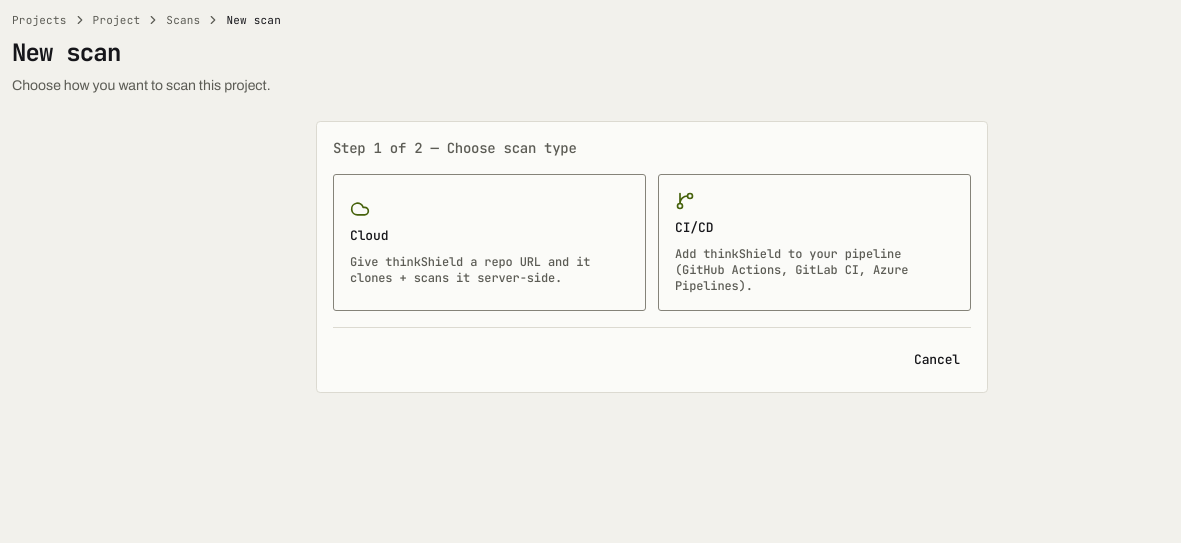
Test: New scan: CI/CD setup › a project that already has a token says so and offers to manage tokens instead
This screenshot has width=1181, height=543.
Click the button "CI/CD". click: (694, 228)
box: [658,174,971,311]
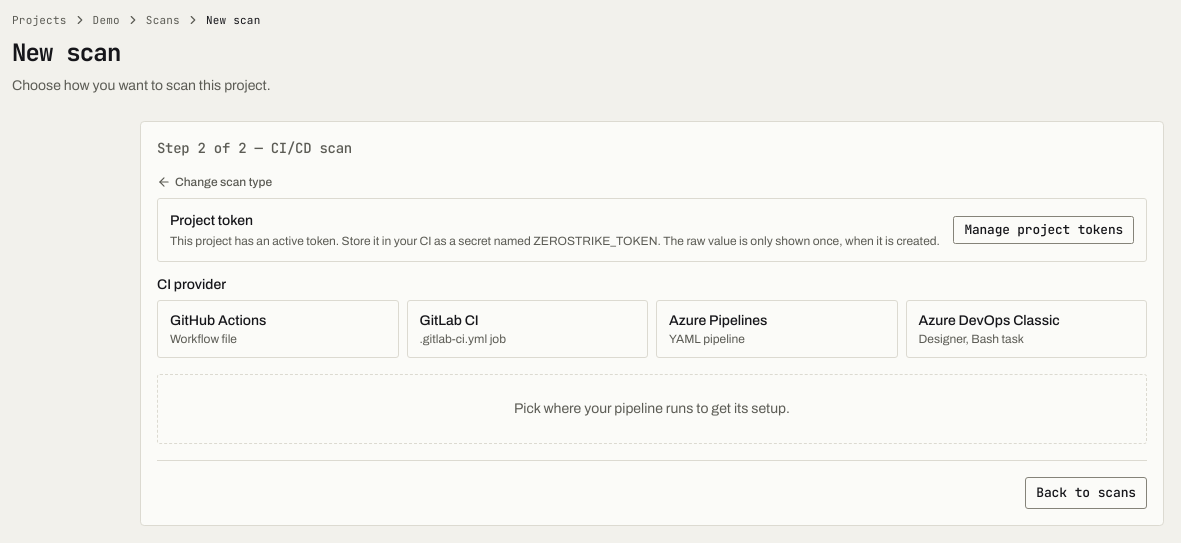
Expected: the button "Manage project tokens" is shown, [953,216,1134,244]
